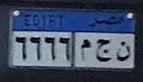6: (14, 33, 27, 62), (58, 35, 71, 63), (43, 35, 56, 63), (29, 35, 41, 61)
jeem: (95, 38, 112, 64)
meem: (78, 38, 92, 63)
noon: (115, 40, 131, 63)
